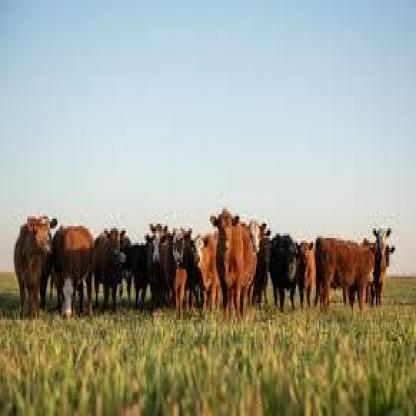cow: (314, 234, 396, 309), (215, 212, 260, 315), (12, 212, 58, 310), (49, 224, 95, 303), (92, 226, 128, 303), (268, 232, 301, 304), (169, 234, 197, 318), (190, 234, 219, 306), (147, 223, 168, 312), (249, 223, 271, 306), (123, 237, 149, 306), (296, 239, 316, 304)
